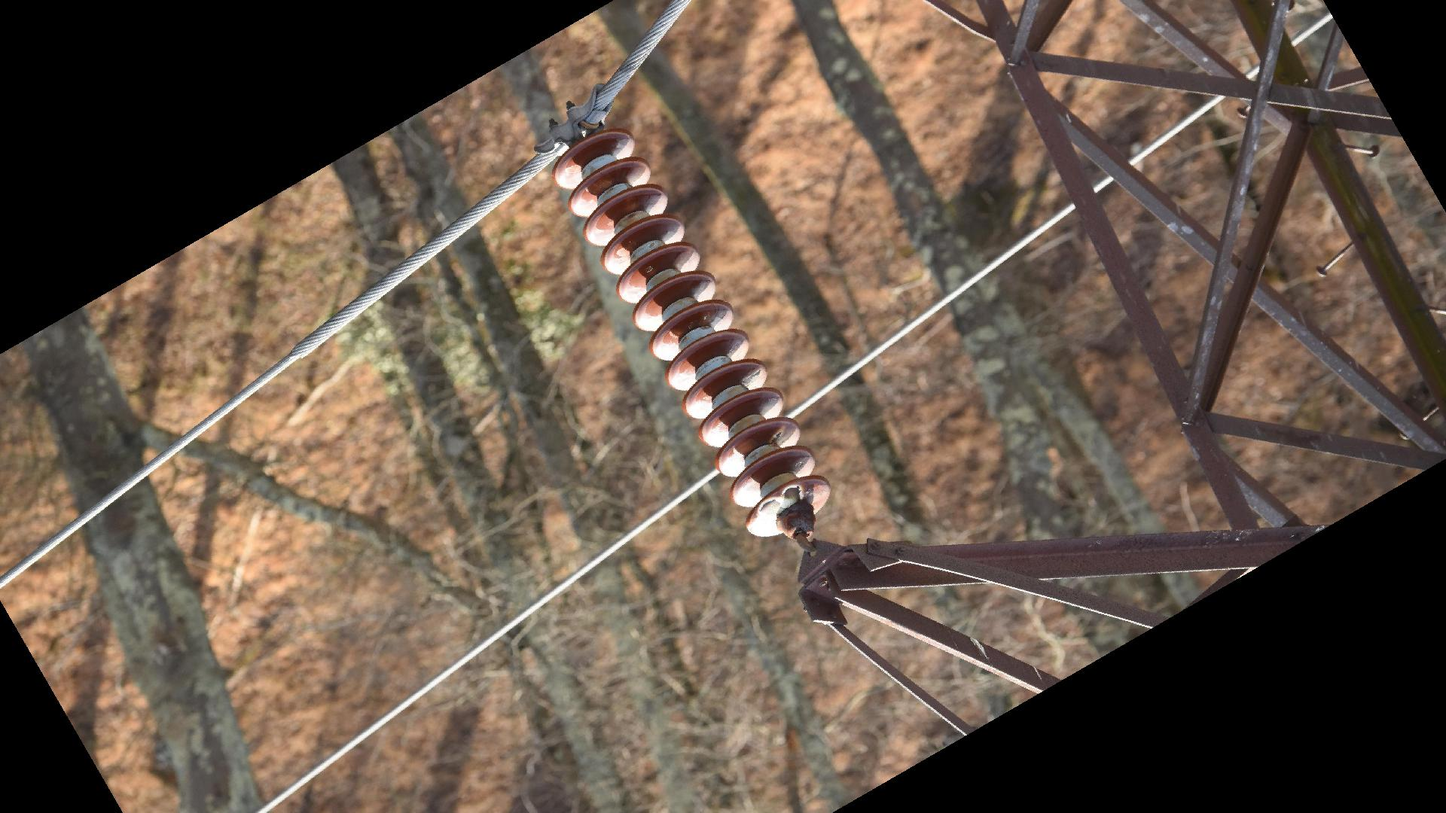insulator: (549, 123, 835, 543)
insulator_flashover: (757, 483, 804, 523), (740, 367, 762, 389), (768, 425, 786, 445)
